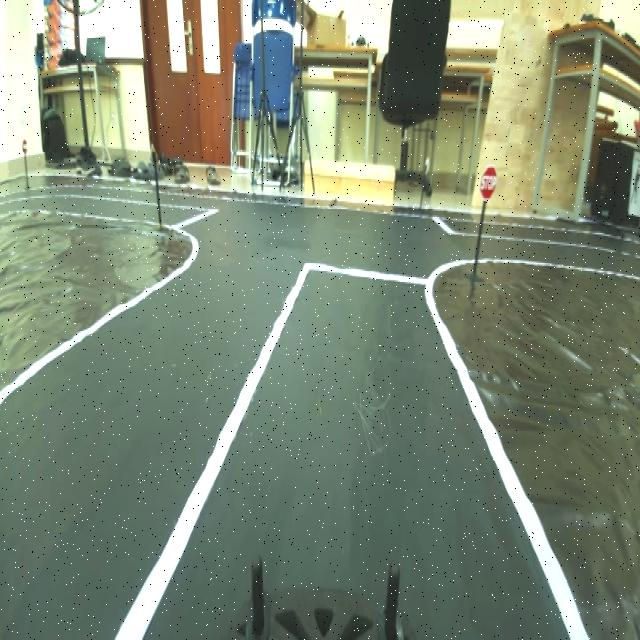stop: (476, 159, 503, 207)
